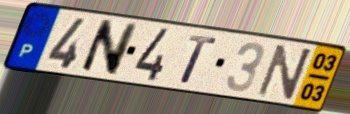3: (226, 41, 265, 93)
4: (45, 15, 87, 71), (132, 27, 171, 84)
N: (77, 17, 141, 78), (254, 43, 316, 101)
T: (178, 33, 220, 86)
